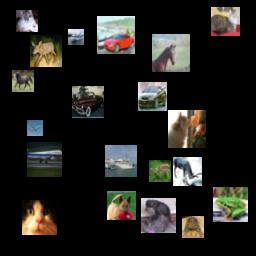airplane: (27, 142, 62, 177), (27, 120, 43, 136)
automobile: (97, 16, 135, 54), (72, 86, 104, 118), (138, 82, 167, 111)
cat: (168, 110, 206, 148), (22, 200, 57, 235), (211, 7, 240, 36), (16, 10, 38, 32)
deer: (30, 35, 62, 67), (173, 157, 202, 186), (149, 160, 171, 182)
dog: (141, 198, 176, 233), (107, 191, 136, 220)
frog: (213, 187, 248, 222), (182, 216, 204, 238)
ship: (105, 145, 137, 177), (68, 29, 84, 45)
